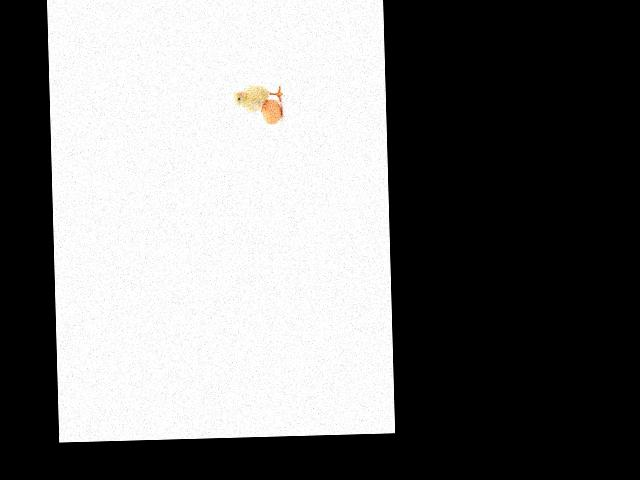egg: (261, 98, 281, 124)
